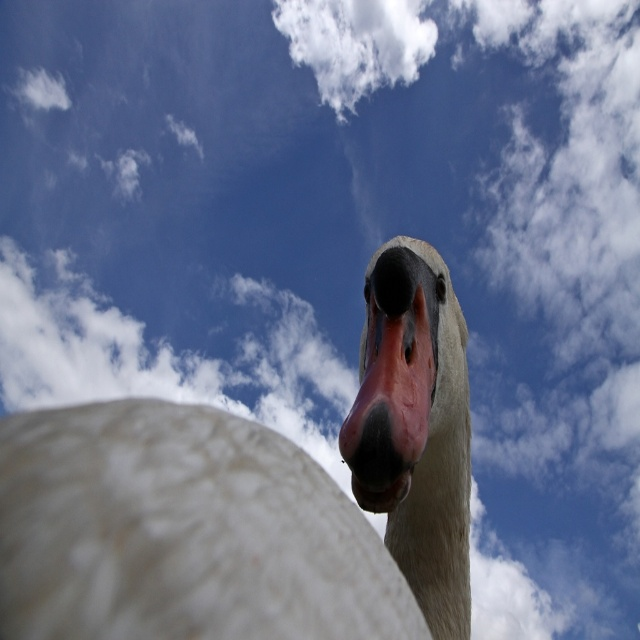Goose: (0, 237, 470, 639)
